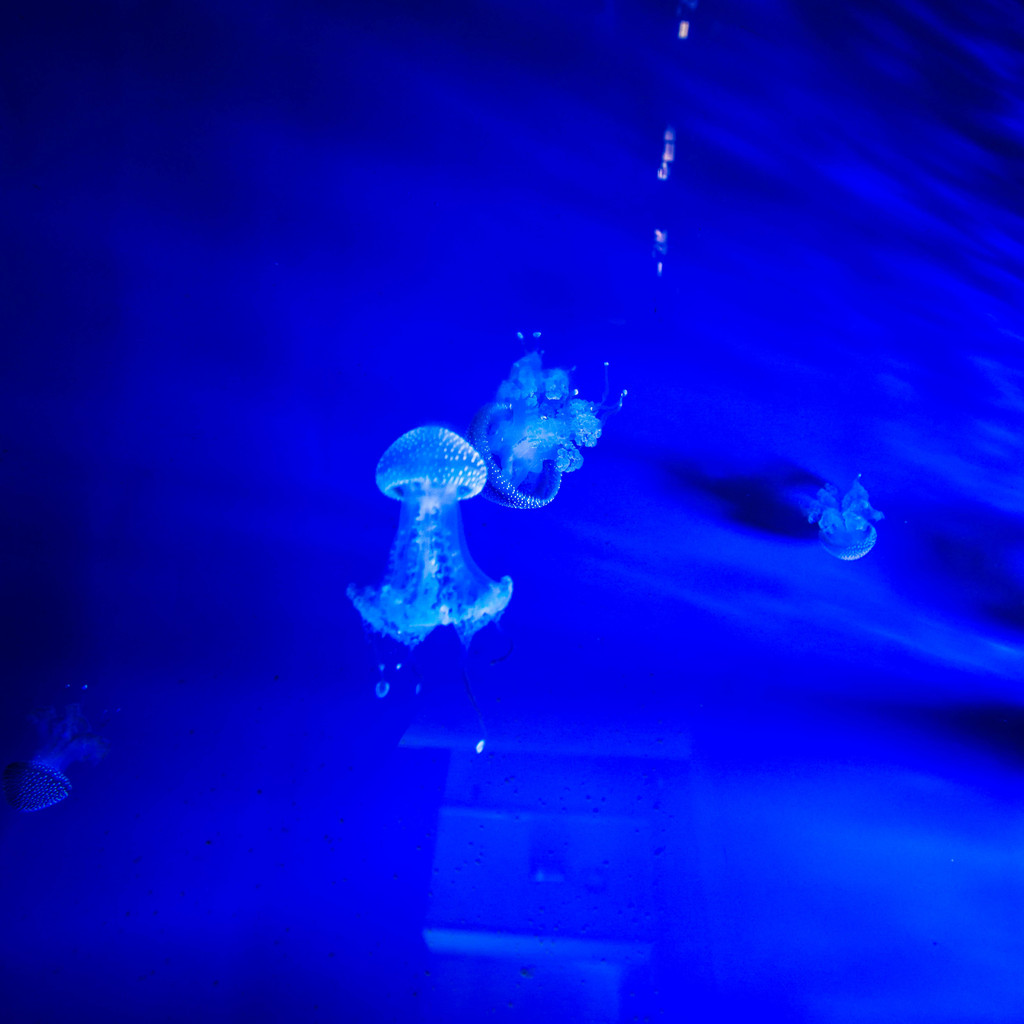Jellyfish: (344, 422, 515, 753), (456, 346, 602, 516), (0, 700, 108, 816), (803, 474, 887, 560)
